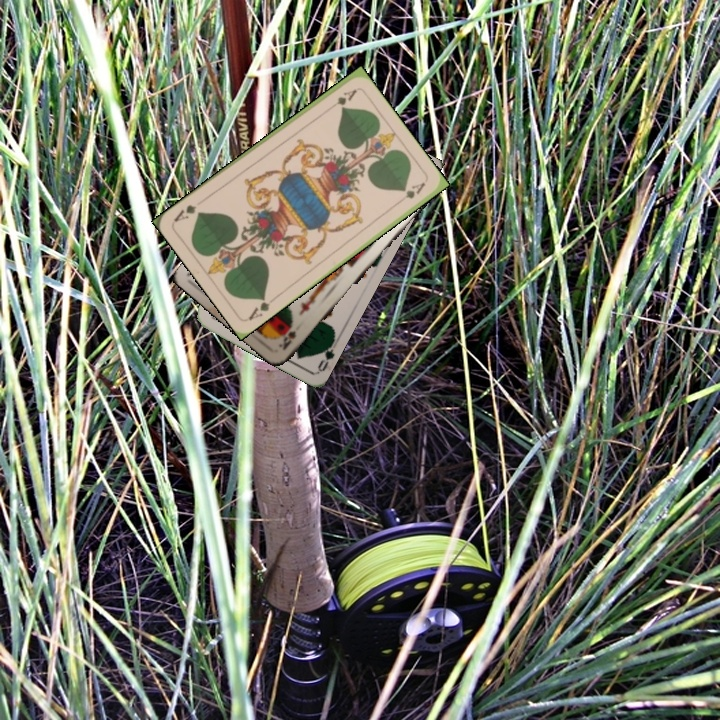GA: (243, 292, 279, 323), (323, 85, 359, 114)
GO: (313, 334, 341, 374)
SK: (274, 326, 299, 353)
